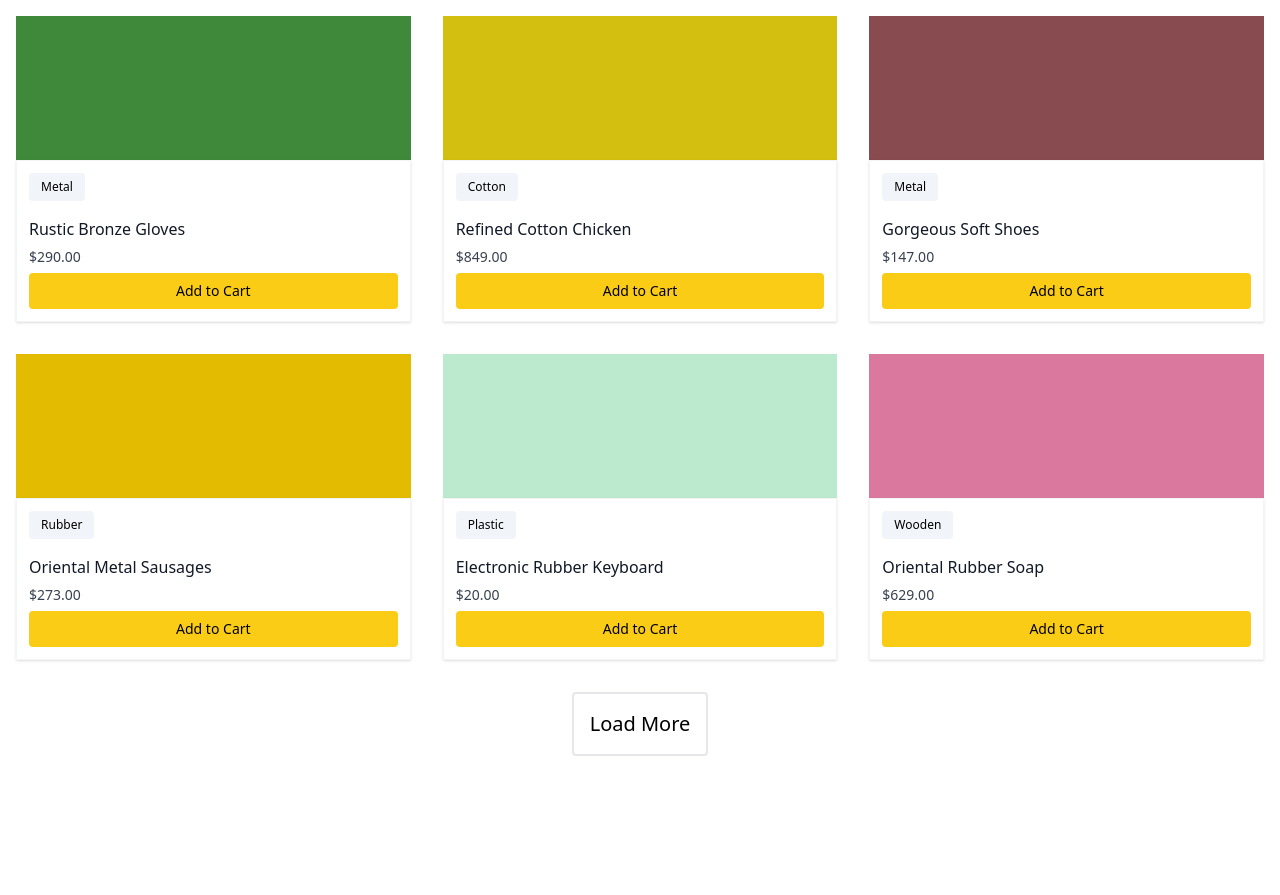
Scenario: clicking on the button load 5 more products
Step 1. Click the button "Load More" → x=640, y=724, box x1=572 y1=692 x2=708 y2=756
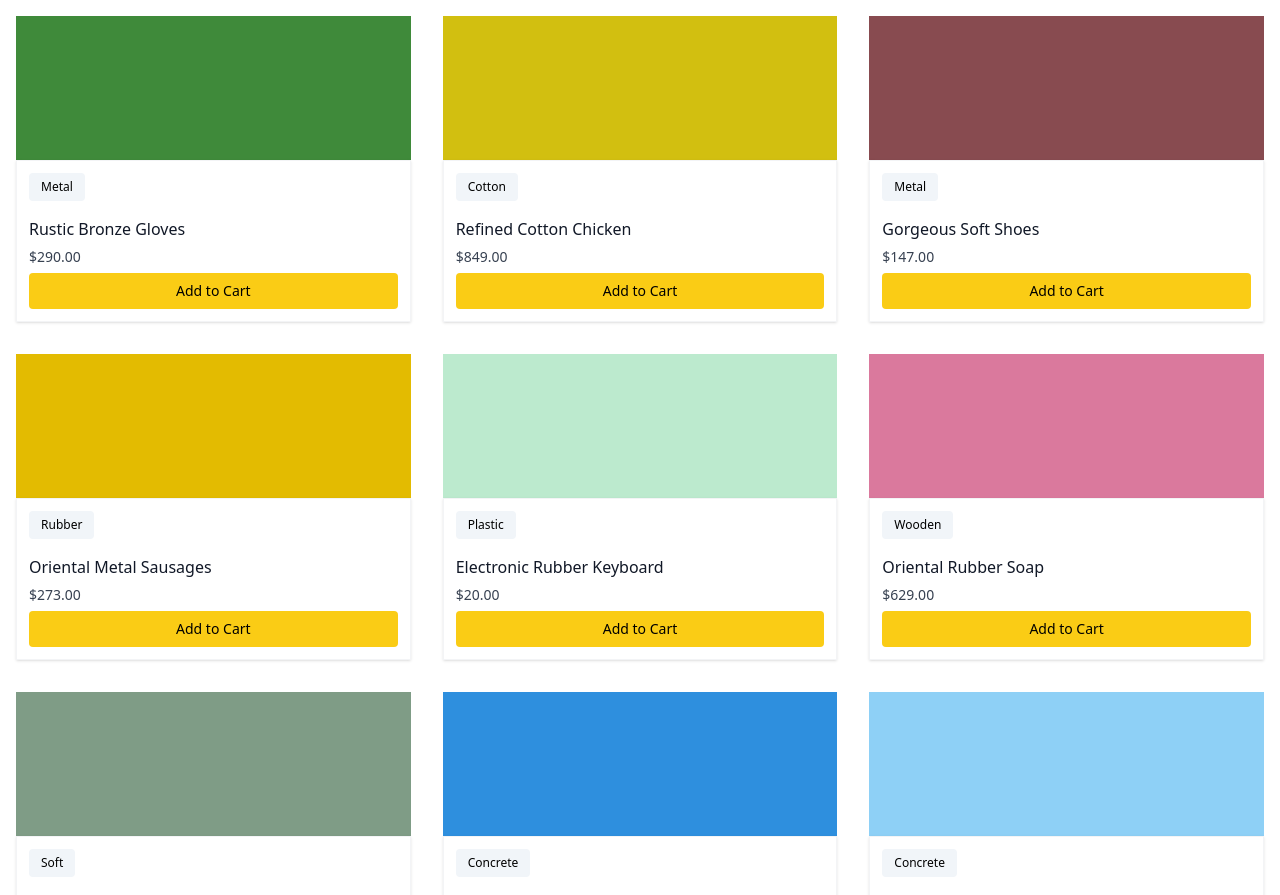
Expected: the number of headings is 12
